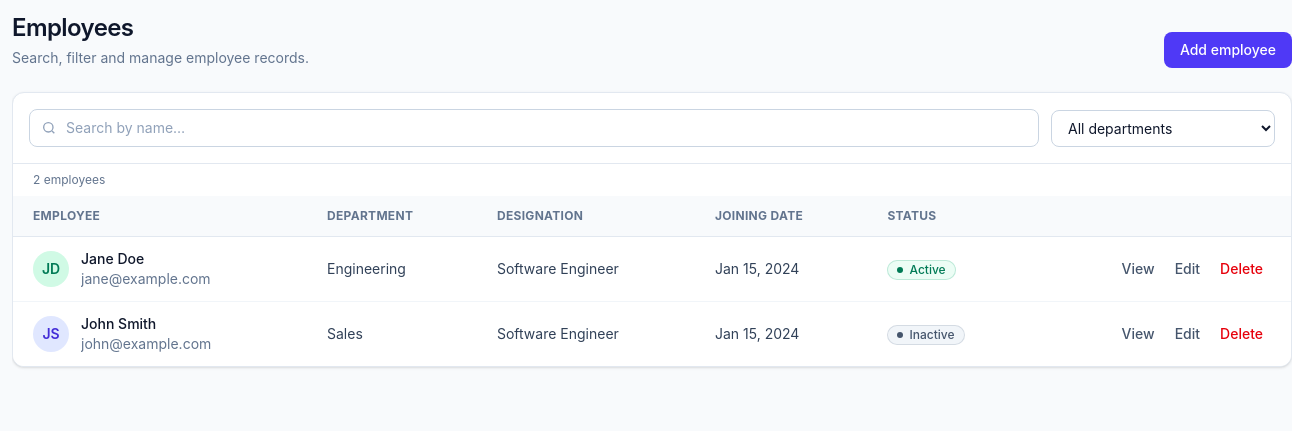
EmployeesPage › shows an empty state for a search with no results
Expected: the table is shown, 13,196 -> 1291,366
Type "zzz" into the search field named "Search employees by name". click: (534, 128)
box: 29,109 -> 1039,147
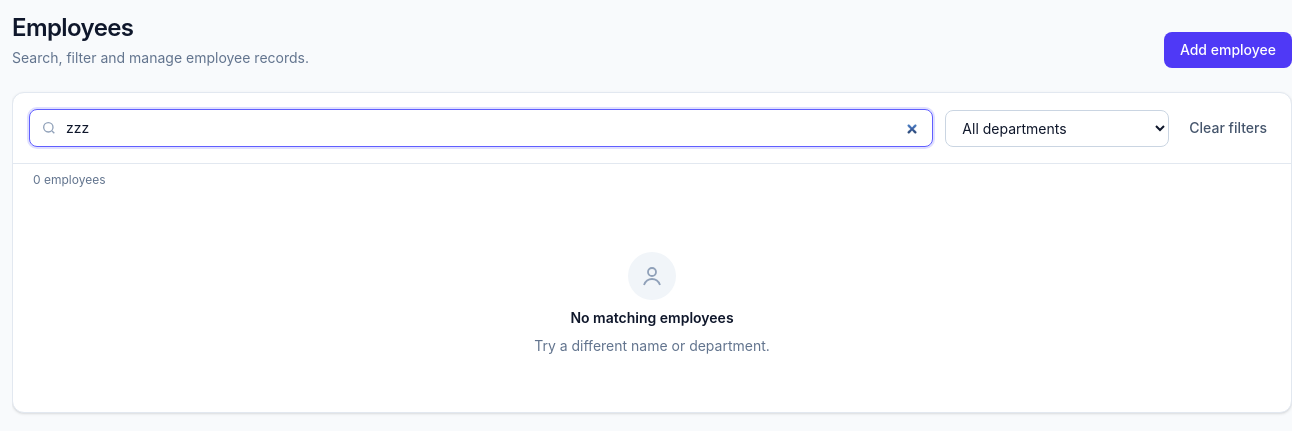
Result: the heading "No matching employees" is shown at 570,308 -> 734,328
